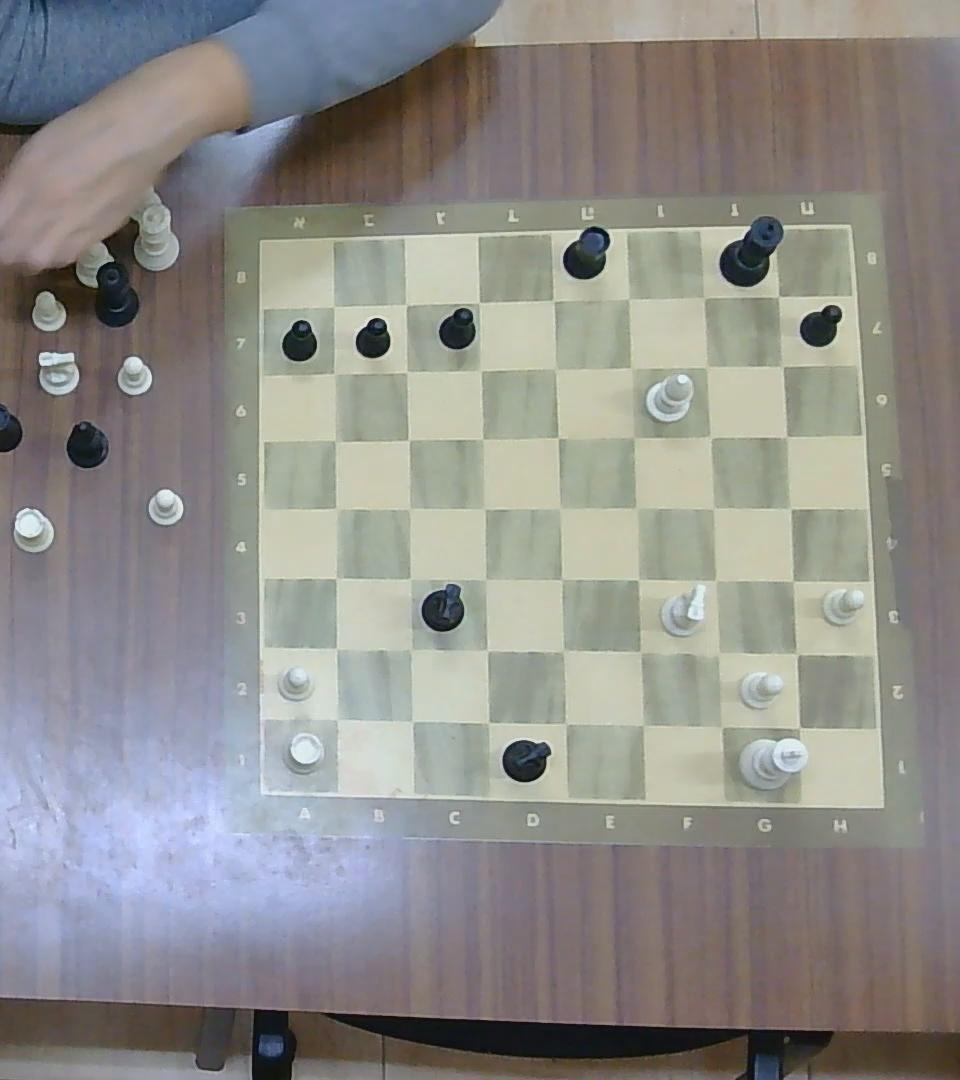xcorner: (703, 708, 737, 742), (701, 636, 735, 669), (781, 710, 815, 743), (625, 635, 656, 667), (626, 707, 657, 739), (780, 637, 812, 668), (320, 703, 351, 734), (548, 707, 580, 737), (622, 562, 652, 594), (472, 706, 502, 737), (698, 492, 728, 523), (396, 705, 427, 735), (699, 565, 730, 595), (548, 636, 578, 666), (545, 492, 574, 523), (547, 563, 576, 594), (622, 492, 651, 523), (472, 634, 501, 664), (776, 493, 806, 522), (395, 635, 424, 664), (543, 422, 572, 451), (471, 564, 500, 593), (321, 562, 350, 591), (321, 633, 350, 662), (776, 566, 806, 594), (471, 493, 499, 522), (467, 422, 495, 451), (617, 352, 646, 380), (621, 421, 649, 449), (693, 352, 722, 379), (615, 285, 644, 312), (396, 565, 424, 592), (396, 494, 423, 521), (692, 283, 719, 310), (542, 354, 569, 381), (772, 422, 800, 448), (320, 292, 348, 318), (467, 354, 493, 381), (698, 422, 725, 448), (324, 494, 350, 521), (321, 360, 349, 385), (769, 353, 797, 378), (323, 427, 349, 453), (540, 287, 566, 313), (395, 426, 421, 451), (393, 358, 419, 383), (393, 291, 419, 315), (767, 283, 791, 307), (466, 290, 491, 313)
